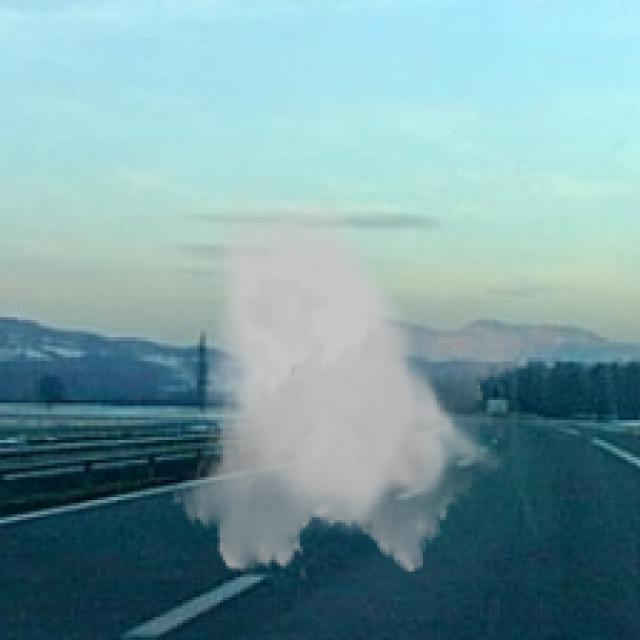Smoke: (172, 183, 537, 583)
